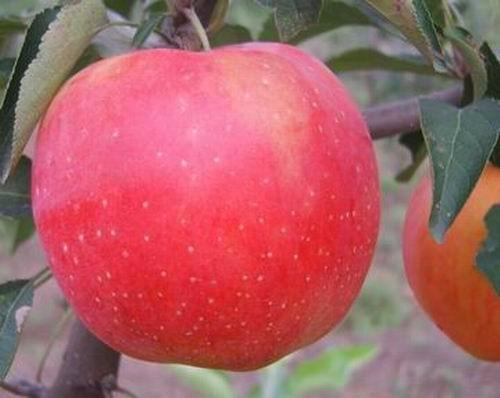apple: (28, 43, 374, 361), (398, 155, 499, 361)
